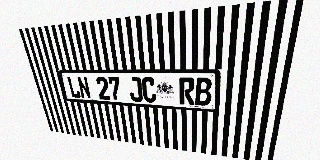2: (95, 77, 111, 100)
7: (107, 77, 122, 101)
B: (195, 78, 212, 106)
C: (141, 77, 157, 103)
J: (128, 77, 143, 102)
L: (66, 76, 81, 98)
N: (77, 76, 91, 99)
R: (179, 77, 195, 105)
